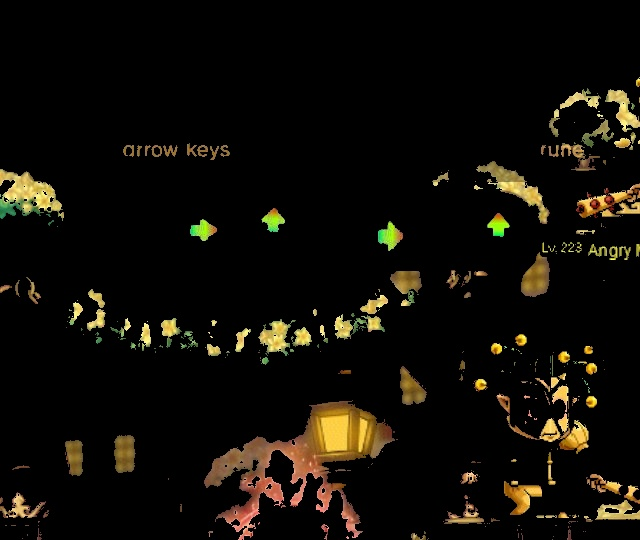right: (368, 212, 413, 261), (185, 212, 224, 251)
up: (476, 208, 518, 249), (253, 202, 293, 244)
